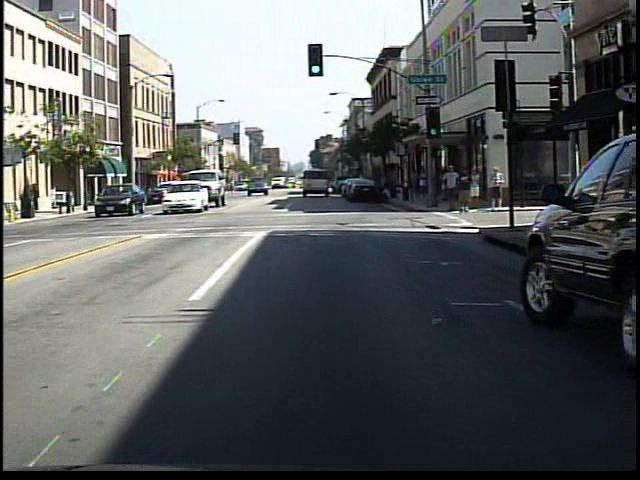person: (441, 164, 461, 214), (455, 167, 475, 214), (487, 165, 506, 214), (468, 166, 485, 214), (414, 165, 432, 207), (225, 174, 242, 202)
